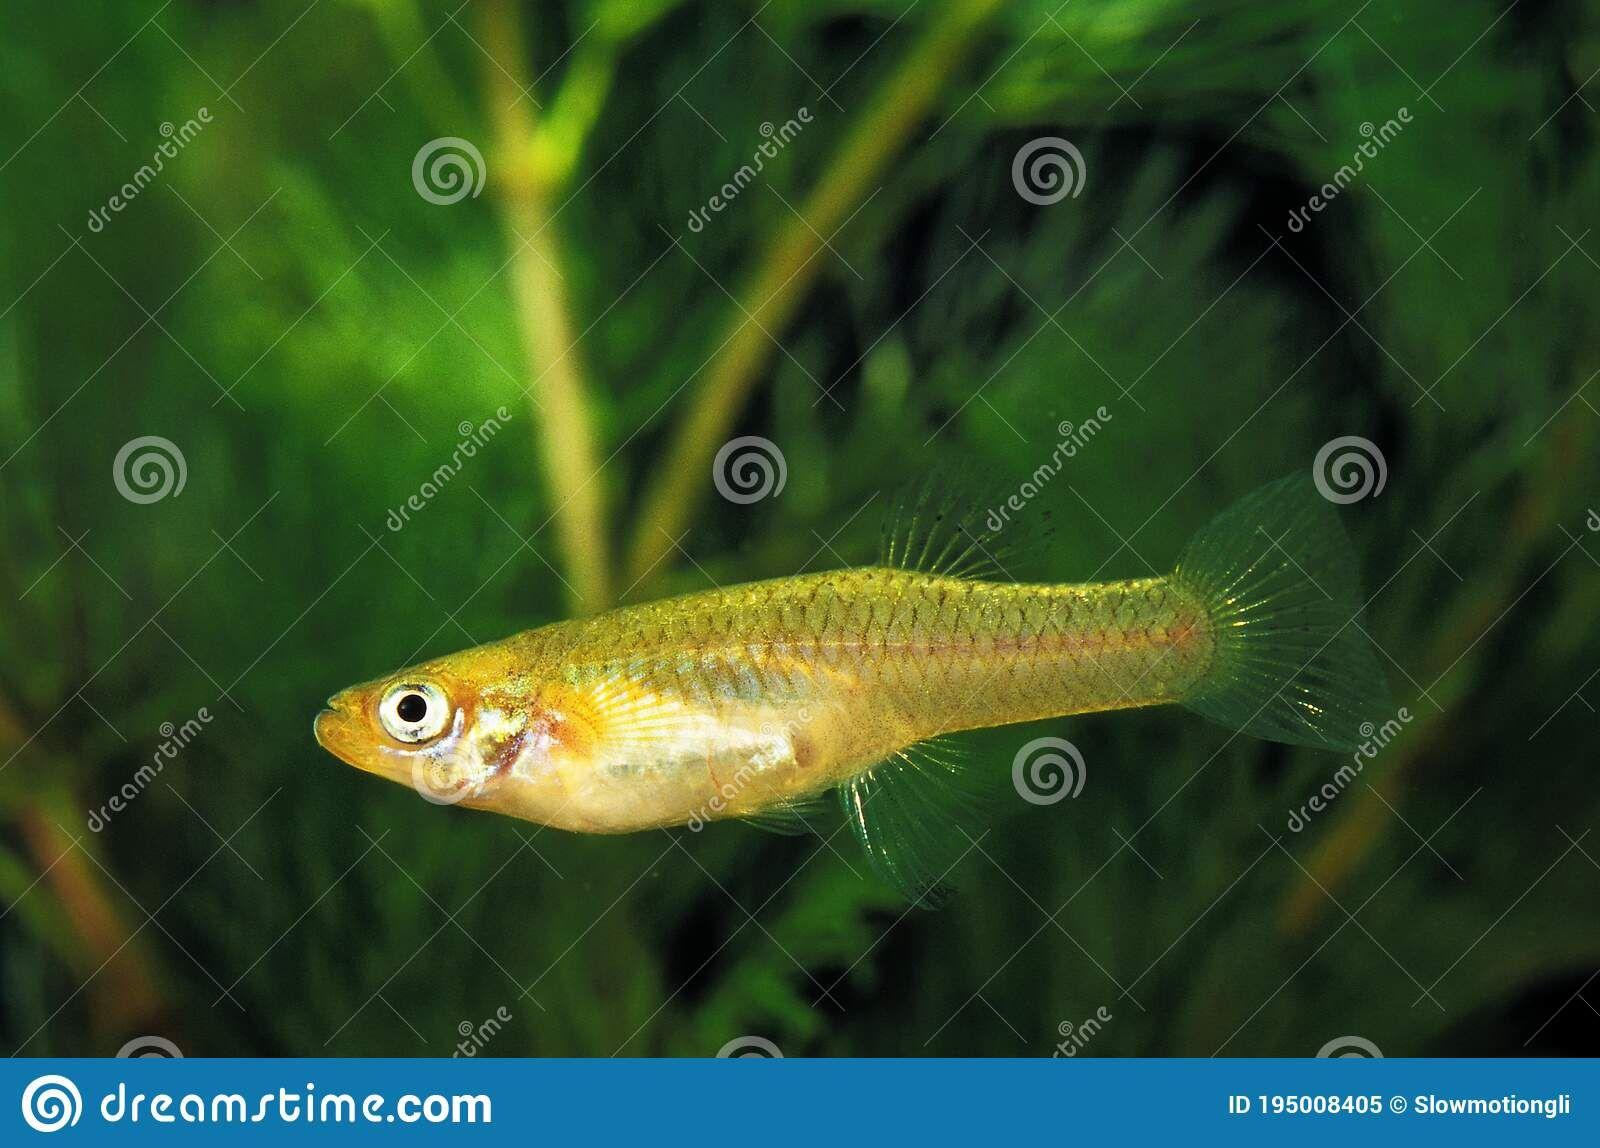Mosquito Fish: (322, 473, 1390, 907)
